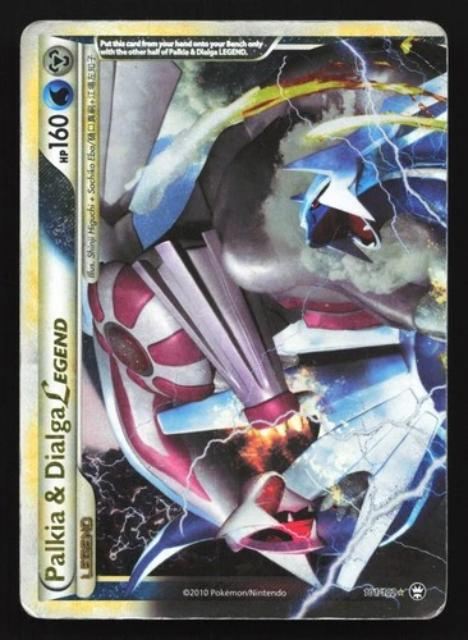Card: (14, 17, 452, 624)
Name: (37, 304, 76, 587)
